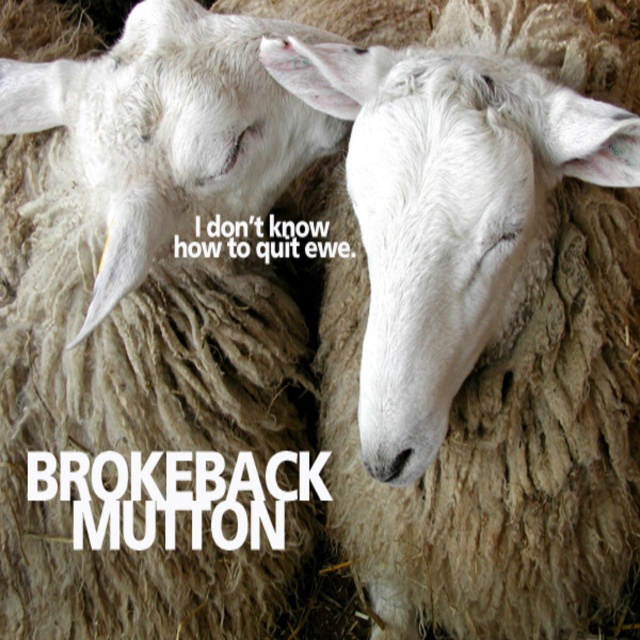Sheep: (258, 0, 640, 640), (0, 0, 361, 640)
